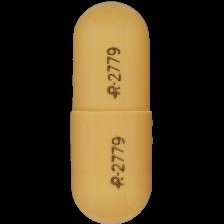0228-2779: (0, 0, 224, 224)
